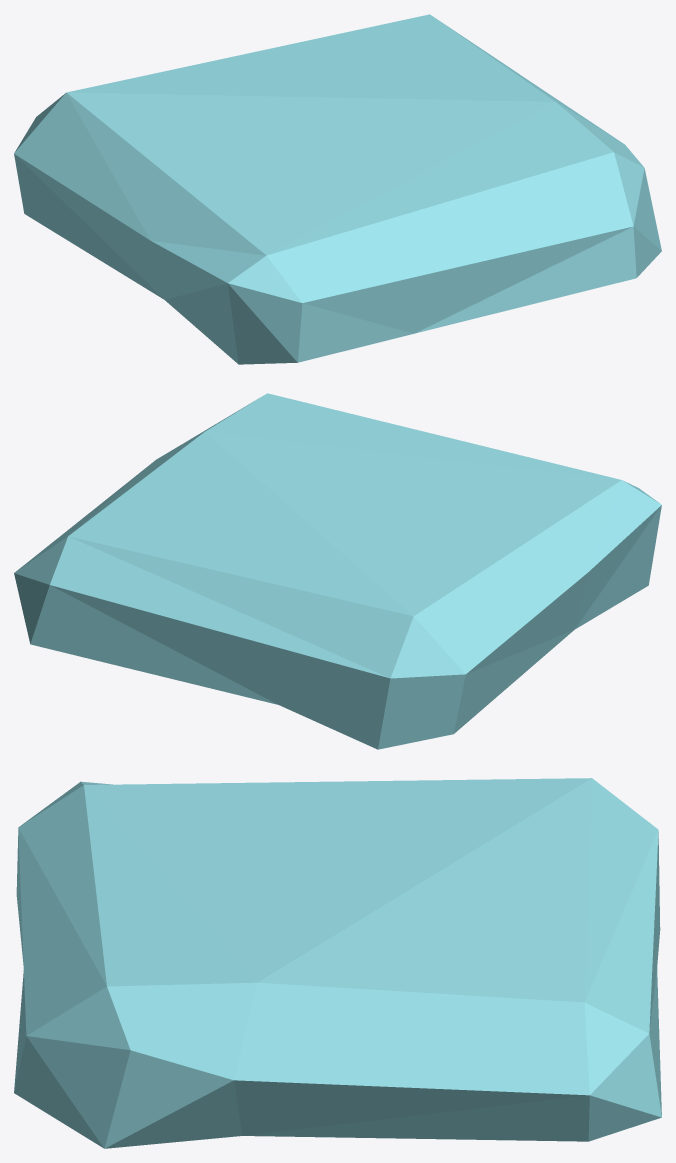
Rendered from IceTile.fbx.
3 renders of one model, top to bottom at view 1: azimuth 30°, elevation 25°; view 2: azimuth 150°, elevation 25°; view 3: azimuth 270°, elevation 25°, orthographic. The views are drawn at different scales.
Visible parts, largest first — view 1: Cube.243; view 2: Cube.243; view 3: Cube.243.
Part boxes in pixels (left/top/right/bottom): Cube.243: left=14, top=14, right=661, bottom=364; Cube.243: left=14, top=393, right=661, bottom=749; Cube.243: left=14, top=778, right=661, bottom=1148.
Size of the model in its own units: 247 by 62.93 by 242.
